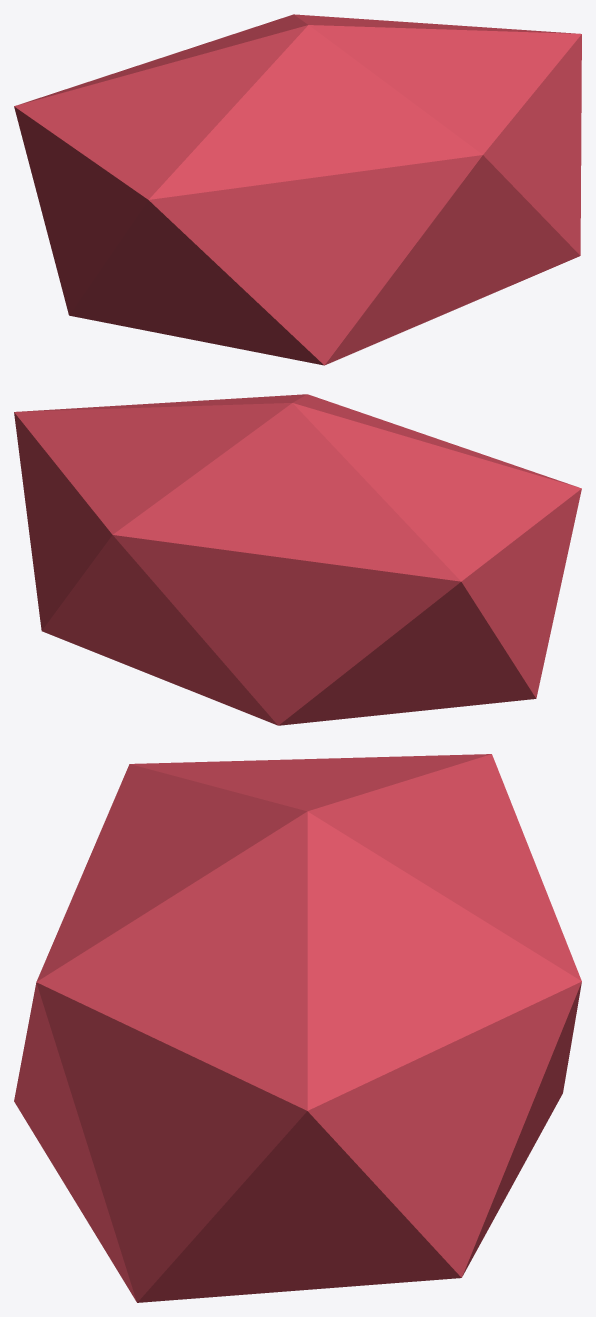
Rendered from item_069_apple_s.glb.
3 renders of one model, top to bottom at view 1: azimuth 30°, elevation 25°; view 2: azimuth 150°, elevation 25°; view 3: azimuth 270°, elevation 25°, orthographic. The views are drawn at different scales.
Parts seen in each view (by area): view 1: item_069_apple_s; view 2: item_069_apple_s; view 3: item_069_apple_s.
Part boxes in pixels (x1,y1,x2,y2): item_069_apple_s: [14, 14, 581, 365]; item_069_apple_s: [14, 394, 581, 725]; item_069_apple_s: [14, 754, 581, 1302].
Bounding box in the file's own units: 0.3143 × 0.1832 × 0.2104.
